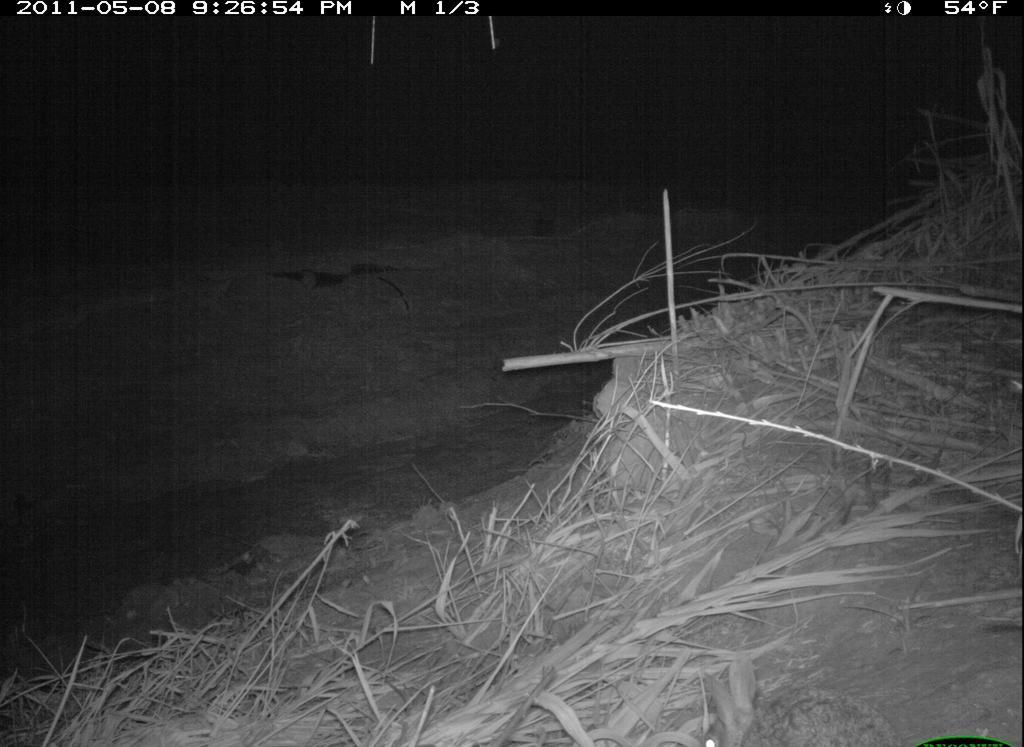rabbit: (685, 647, 907, 744)
